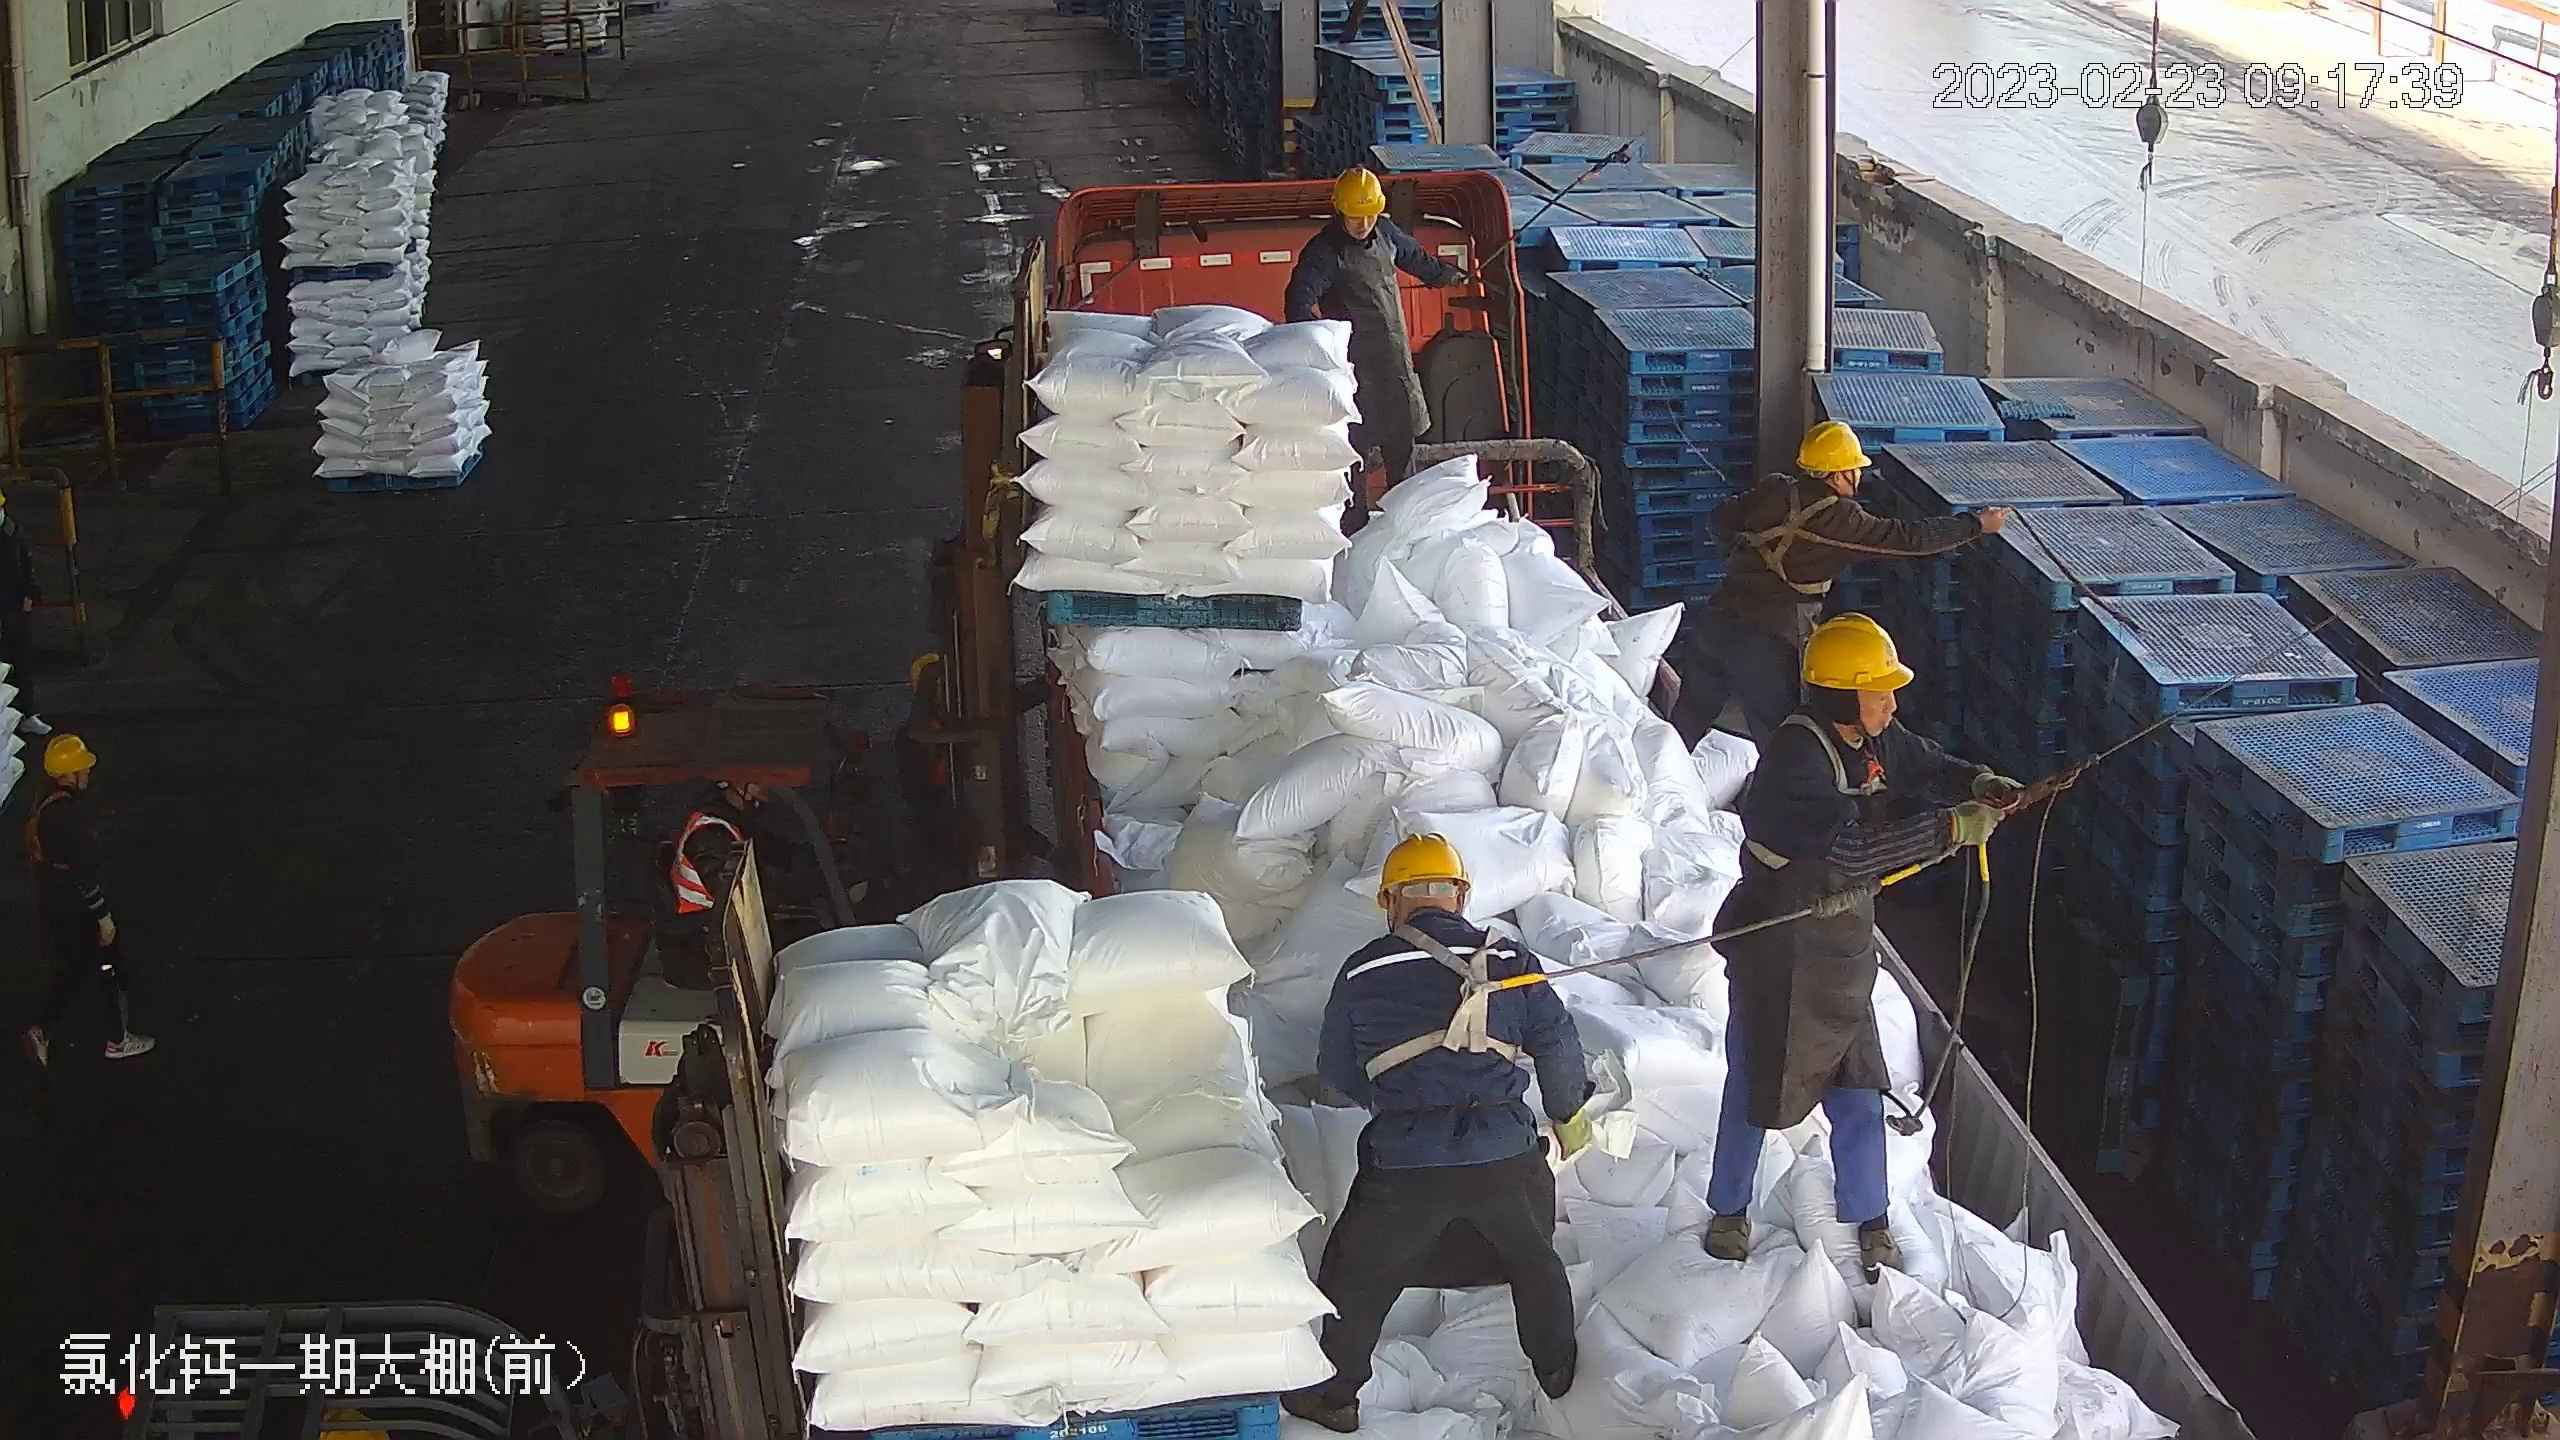belt: (1374, 928, 1544, 1081), (1728, 721, 1875, 859), (1745, 482, 1840, 589), (14, 787, 82, 865)
head: (1767, 610, 1947, 819), (1336, 832, 1538, 1008), (1755, 418, 1877, 550), (19, 733, 122, 859), (1307, 168, 1414, 280)
helmet: (1798, 610, 1914, 692), (1368, 830, 1470, 898), (1793, 415, 1872, 470), (1329, 165, 1388, 215), (41, 731, 99, 776)
people: (1702, 609, 2005, 1287), (1288, 834, 1599, 1428), (1658, 416, 1886, 752), (1288, 166, 1465, 523), (17, 731, 163, 1082)
truck: (987, 163, 2227, 1426)
